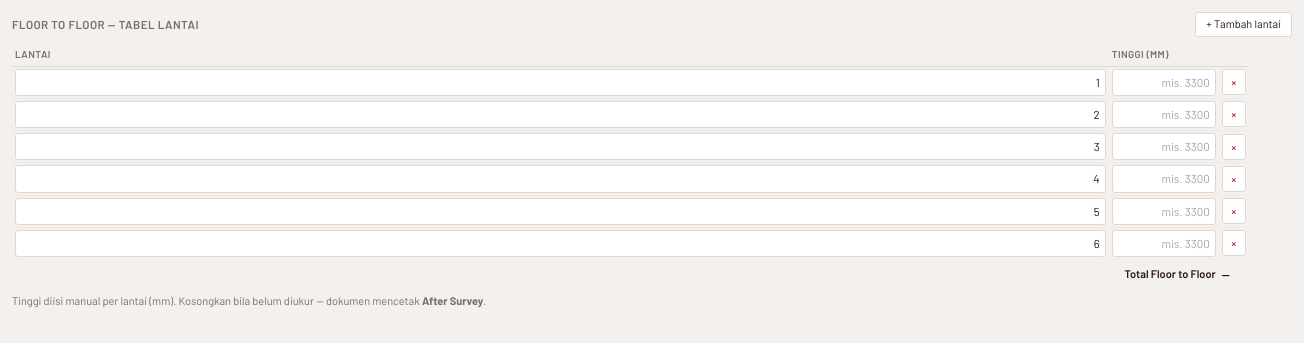
it: Tabel Lantai — editor Floor to Floor › hapus baris merapikan nomor dan totalnya
Step 1. Type "4000" into the field named "Tinggi lantai 1 (mm)" → (1164, 82), box [1112,68,1216,96]
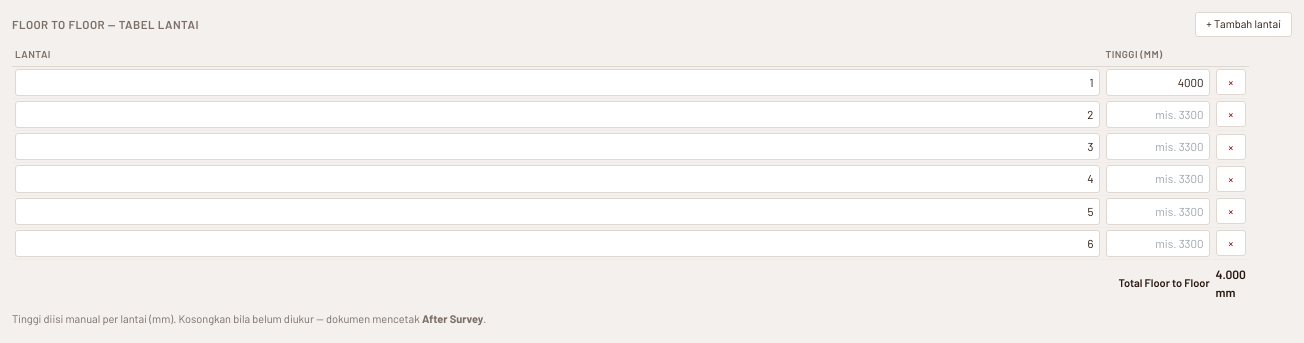
Step 2. Type "3000" into the field named "Tinggi lantai 2 (mm)" → (1158, 114), box [1106,101,1210,128]
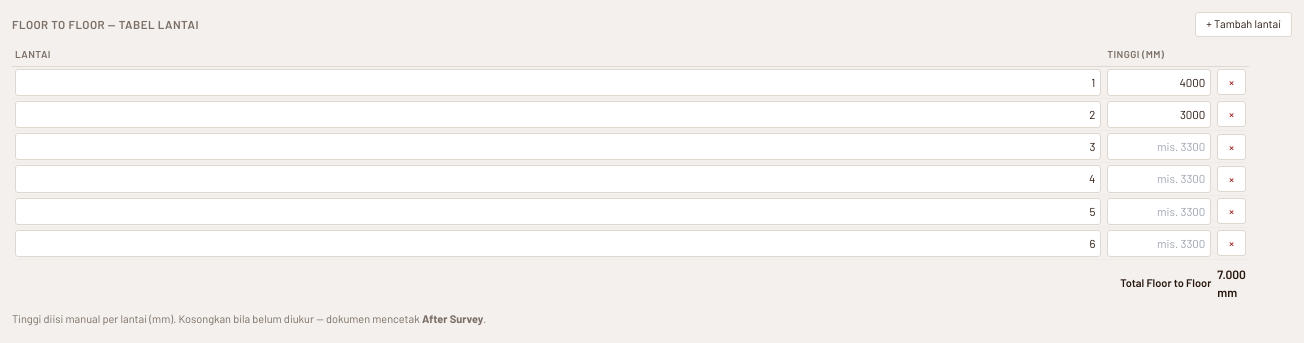
Step 3. Click the button named "Hapus lantai 1" → (1232, 82), box [1217,69,1246,95]
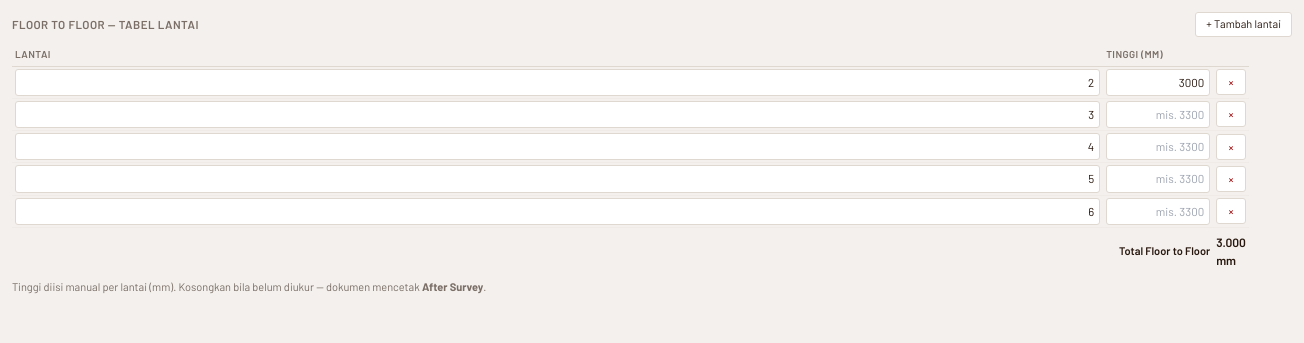
Result: the field named "Tinggi lantai 1 (mm)" holds "3000" at [1106,68,1210,96]
Result: the cell with test id "total" reads "3.000 mm" at [1216,235,1246,267]
